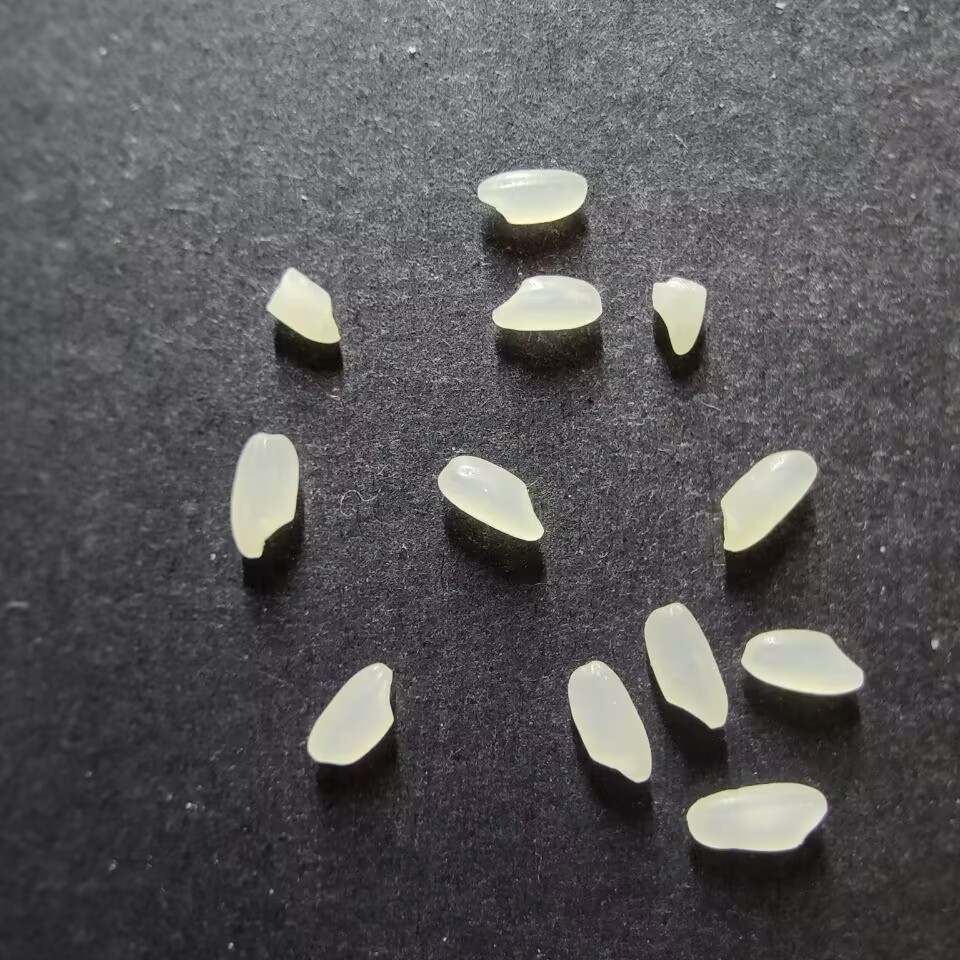broken: (265, 267, 341, 345), (651, 277, 706, 356)
rice: (643, 601, 728, 729), (566, 660, 652, 783), (719, 449, 818, 551), (686, 782, 828, 851), (436, 455, 544, 542), (306, 660, 394, 765), (230, 432, 299, 559), (740, 628, 864, 695), (491, 274, 602, 332), (476, 168, 588, 225)
